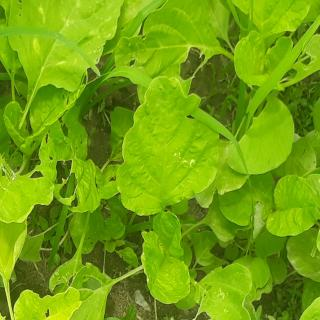karat_putih: (26, 0, 119, 79), (305, 165, 320, 228)
virus_keriting: (298, 274, 319, 320)
